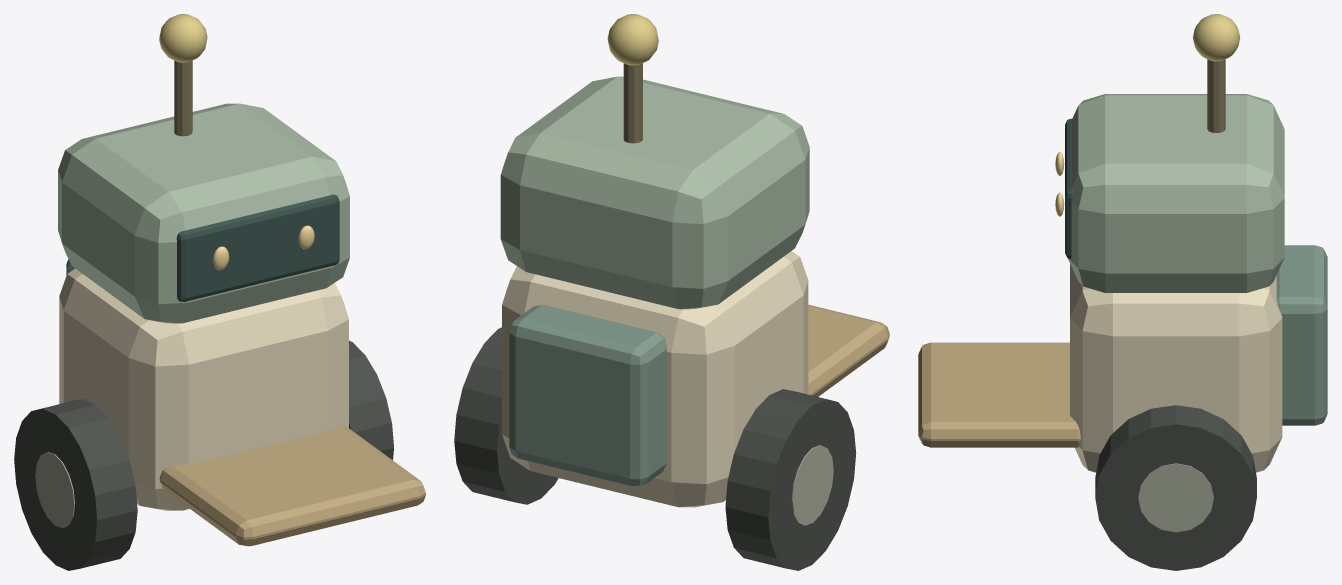
The model's file is ai-explorer-eb8d6a8d59.glb.
The picture shows the model from 3 angles, left to right: view 1: azimuth 30°, elevation 25°; view 2: azimuth 150°, elevation 25°; view 3: azimuth 270°, elevation 25°; orthographic projection. The views are drawn at different scales.
Parts seen in each view (by area): view 1: ai-explorer; view 2: ai-explorer; view 3: ai-explorer.
Boxes of the visible parts, x1,y1,x2,y2 form: ai-explorer: (14,14,425,570); ai-explorer: (454,14,889,570); ai-explorer: (918,14,1327,570).
Bounding box in the file's own units: 0.664 × 1.06 × 0.81.
